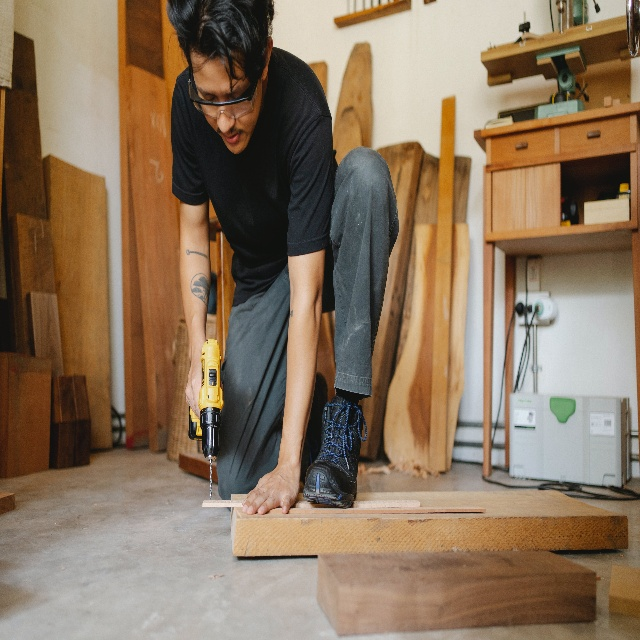Gafas: (187, 60, 262, 119)
Sin_guantes: (241, 467, 300, 515), (185, 348, 203, 420)
